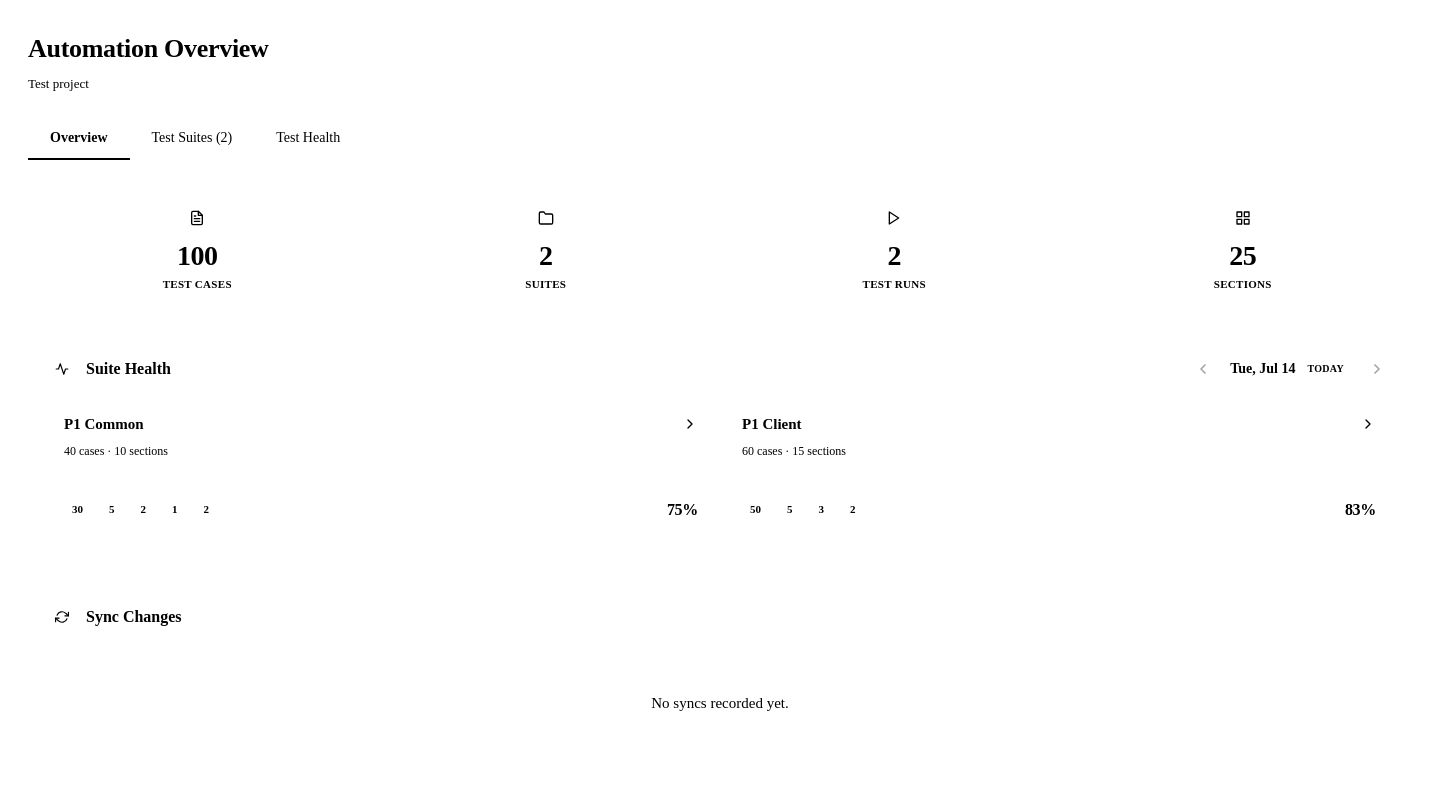
Scenario: ProjectDetailPage › Tab switching › switches between tabs correctly
Expected: the text "Test project" is shown, [28,76,89,91]
Expected: the heading "Suite Health" is shown, [48,355,171,383]
Switch to suites
Step 1. Click the tab "Test Suites (2)" → coordinates (192, 139), box [130,118,254,160]
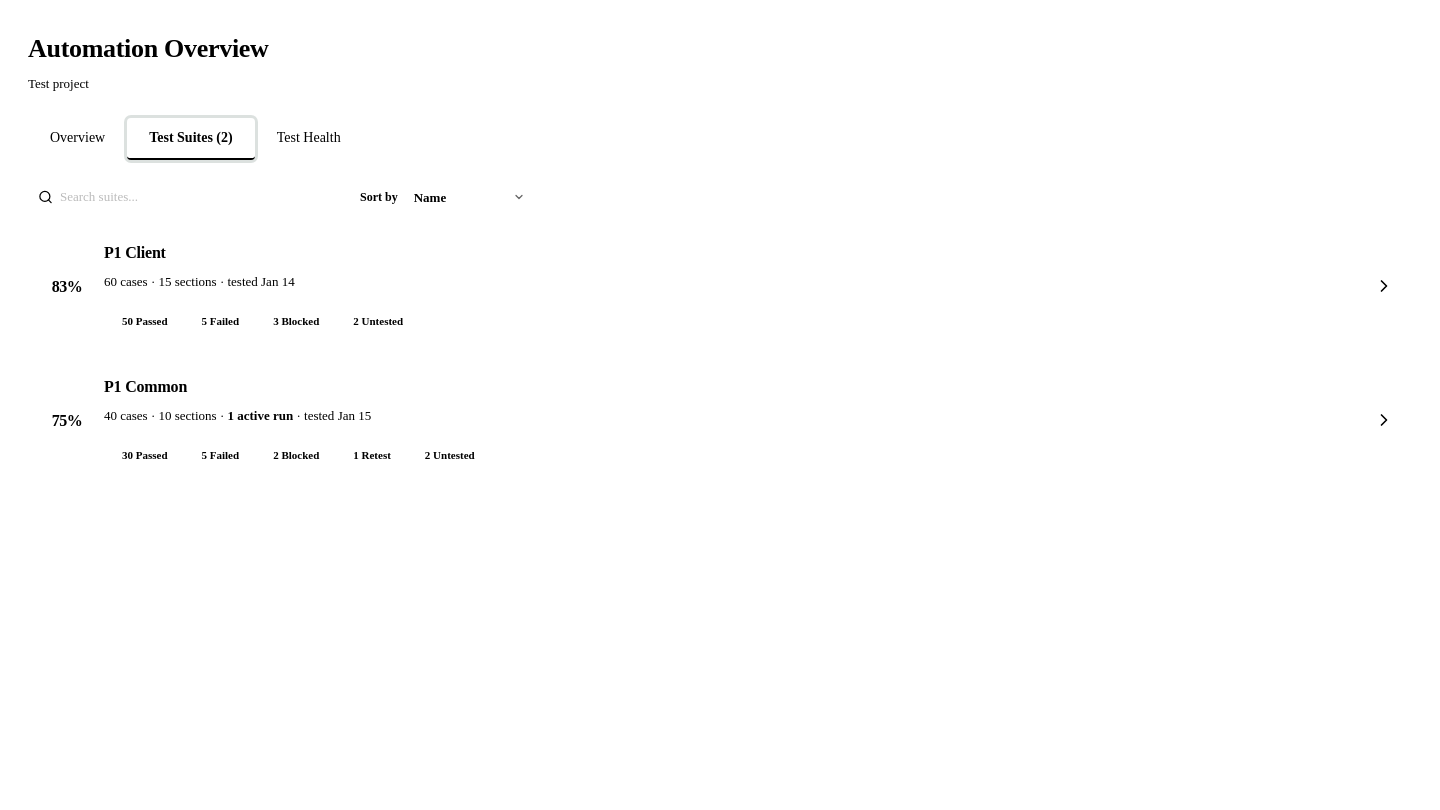
Expected: the text "P1 Common" is shown, [104,378,187,395]
Expected: the heading "Suite Health" is gone
Switch back to overview
Step 2. Click the tab "Overview" → coordinates (78, 139), box [28,118,127,160]
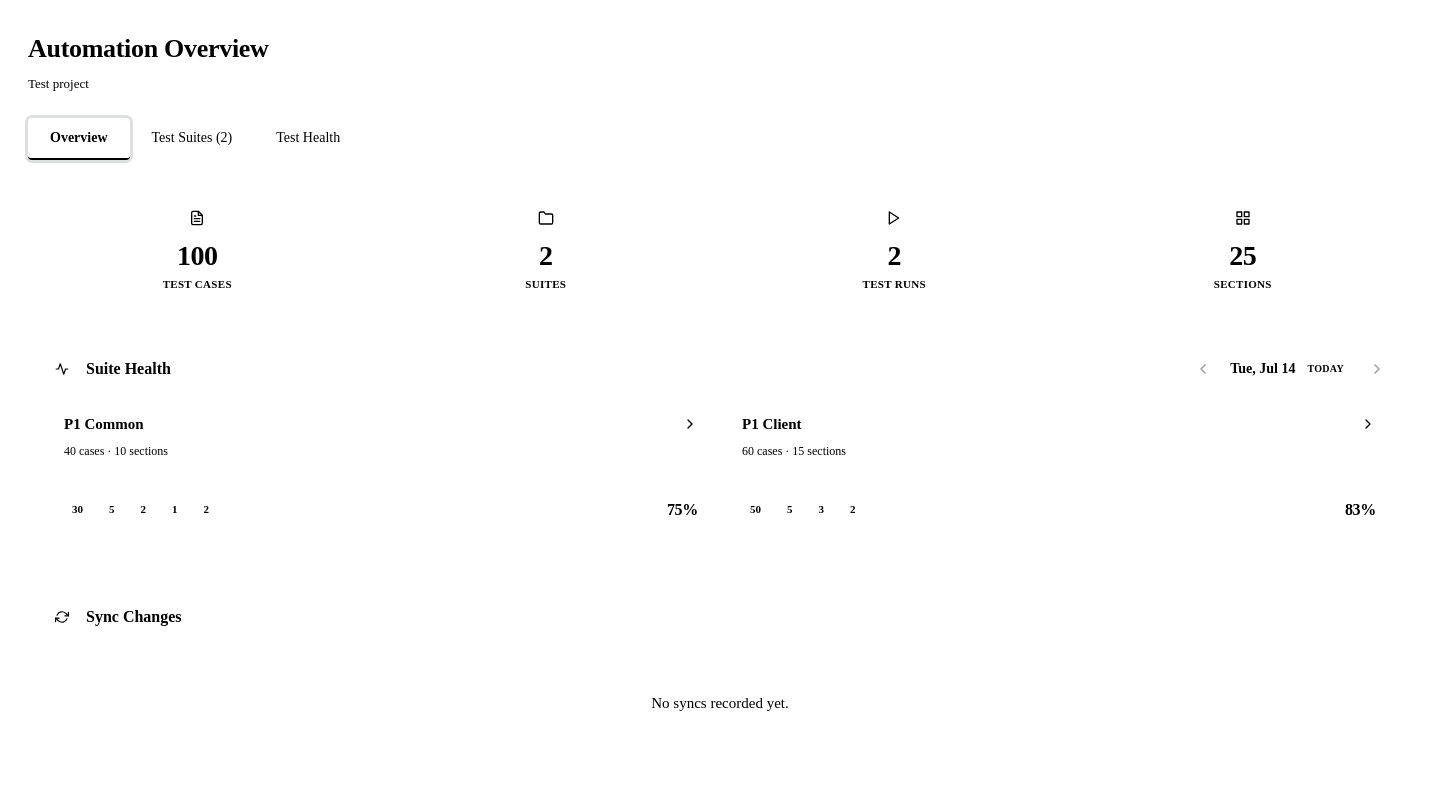
Expected: the heading "Suite Health" is shown, [48,355,171,383]
